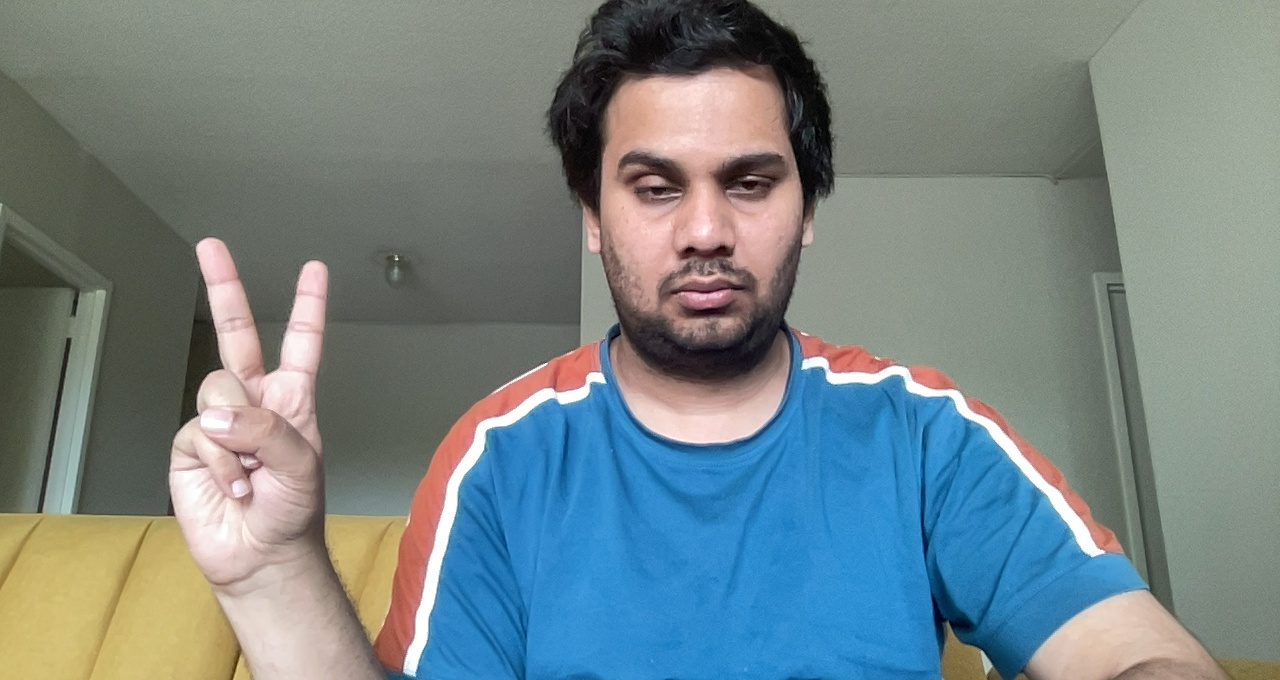peace sign: (168, 228, 361, 592)
